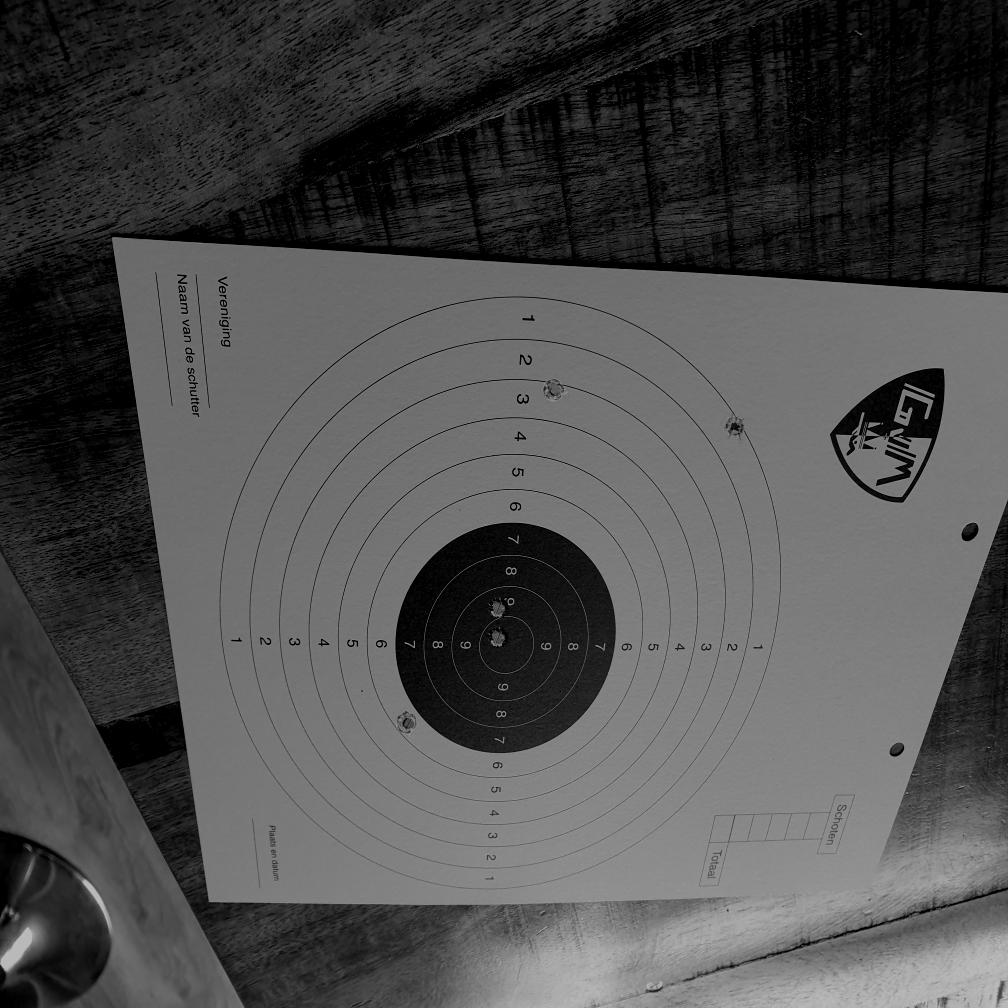1: (724, 415, 745, 441)
10: (486, 626, 509, 650)
3: (541, 378, 566, 402)
6: (396, 710, 417, 736)
9: (487, 597, 509, 618)
Target: (218, 293, 783, 896)
black_contour: (395, 523, 616, 754)
